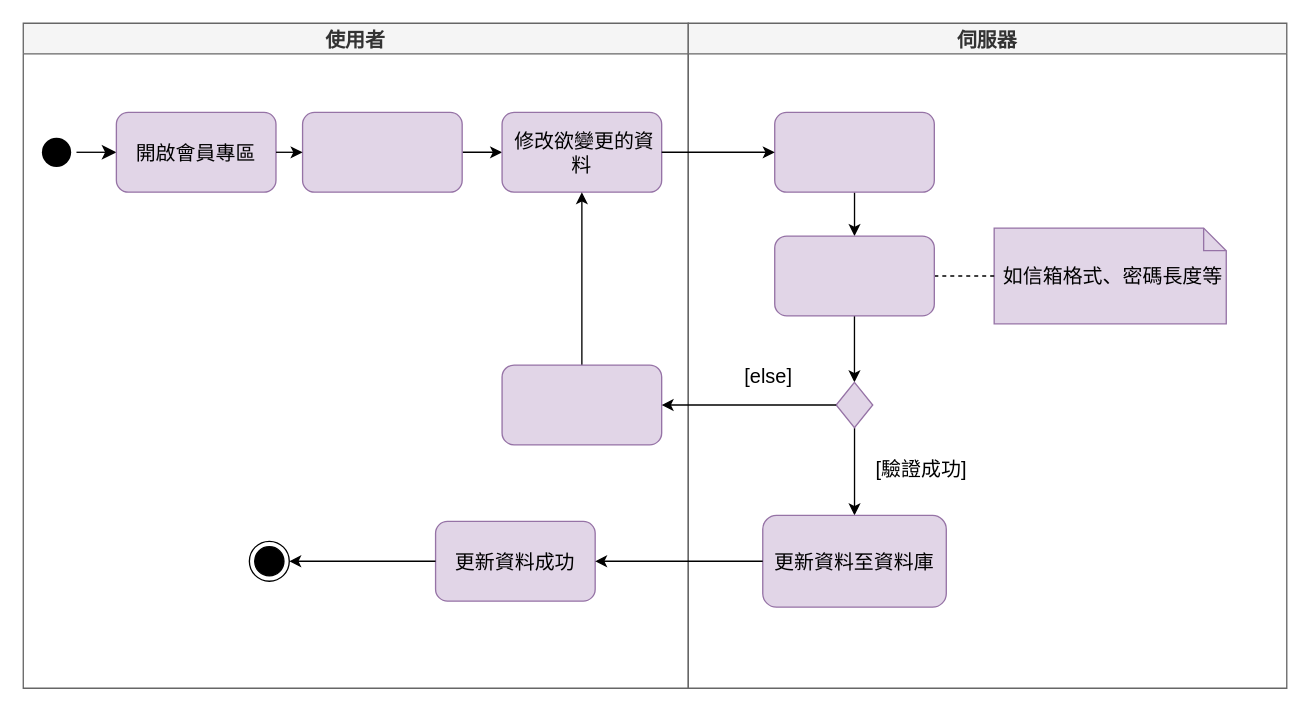
This 1310x712 diagram has some shape labels left out. Each missing label, with the centre of its shape:
回傳錯誤訊息: pixel 581 404
接收使用者送出的資料: pixel 853 151
驗證資料正確性: pixel 853 275
點選「編輯個人資料」: pixel 381 151
